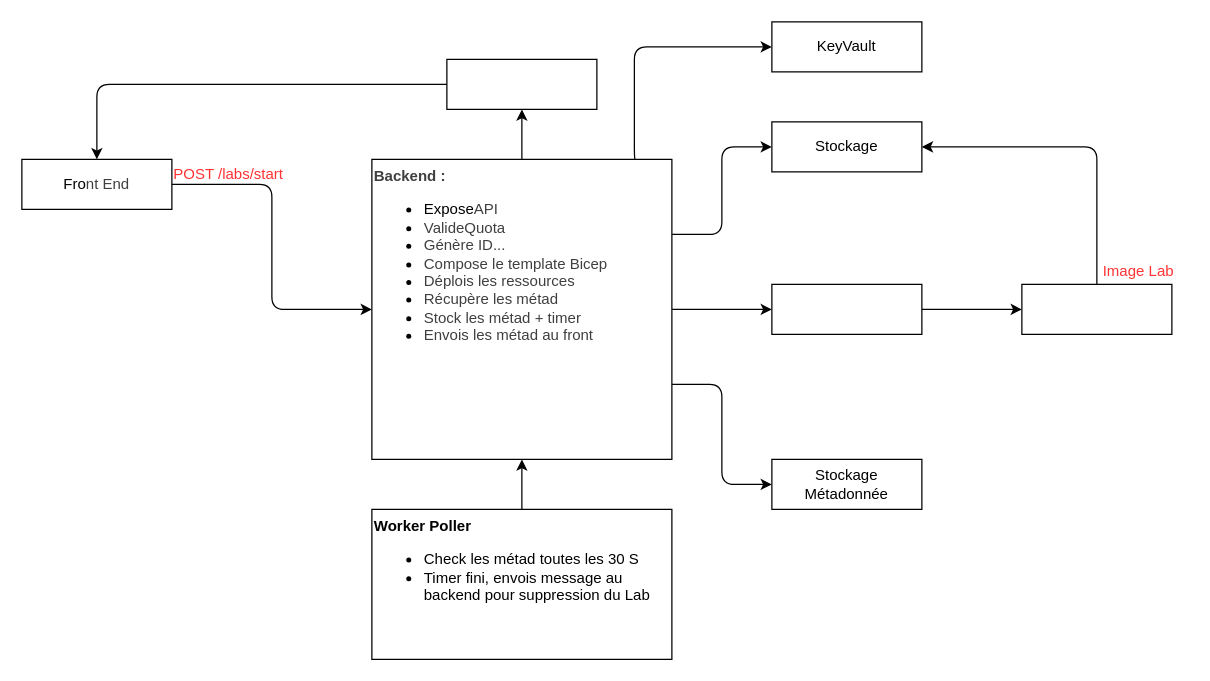
Image size: 1210x681. Some labels were removed from this diagram. Here are the shapes that lost their labels. From the top down, the centre of each, then its label:
At point (521, 83): "Guacamole".
At point (846, 308): "AZ CLI / Bicep".
At point (1096, 308): "Azure Ressources".
